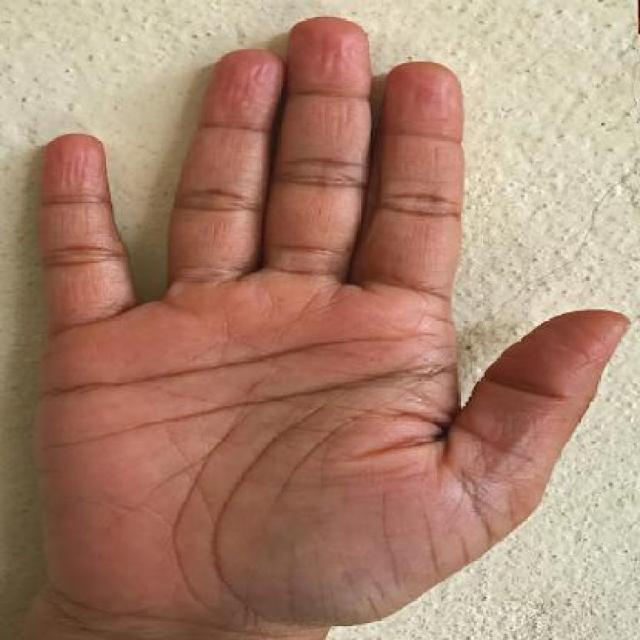no-gloves: (10, 9, 633, 638)
